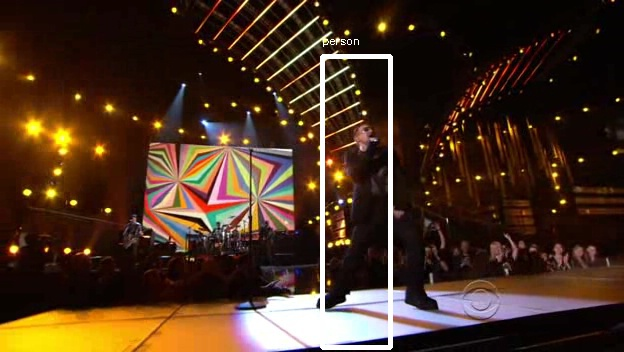person: (343, 123, 410, 238), (340, 123, 407, 238), (346, 123, 413, 238), (343, 120, 410, 235), (343, 126, 410, 241)
target_negative: (26, 346, 513, 352), (402, 284, 525, 300), (447, 227, 458, 351), (24, 331, 99, 339), (577, 185, 604, 206), (567, 55, 570, 239)
